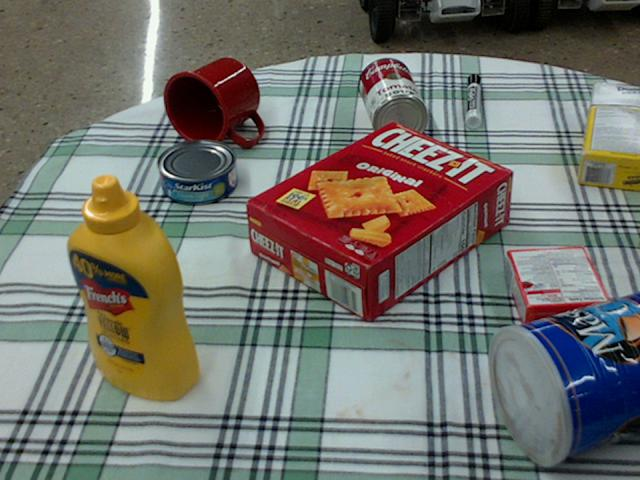cracker_box: (245, 122, 514, 321)
gelatin_box: (505, 245, 610, 326)
large_marker: (464, 74, 481, 126)
master_chef_can: (489, 289, 639, 467)
mug: (162, 57, 262, 146)
mustard_bottle: (66, 173, 200, 399)
potted_meat_can: (637, 237, 639, 248)
sugar_box: (580, 81, 639, 192)
tomato_soup_can: (358, 56, 427, 143)
tuna_fish_can: (155, 139, 236, 203)
